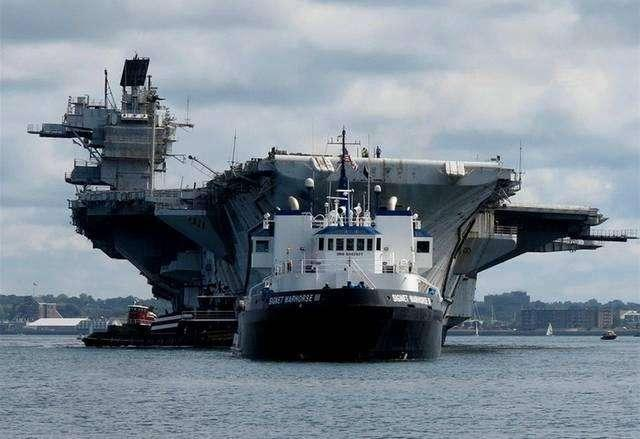otherboat: (205, 132, 436, 368), (81, 291, 208, 353)
warship: (35, 56, 636, 340)
